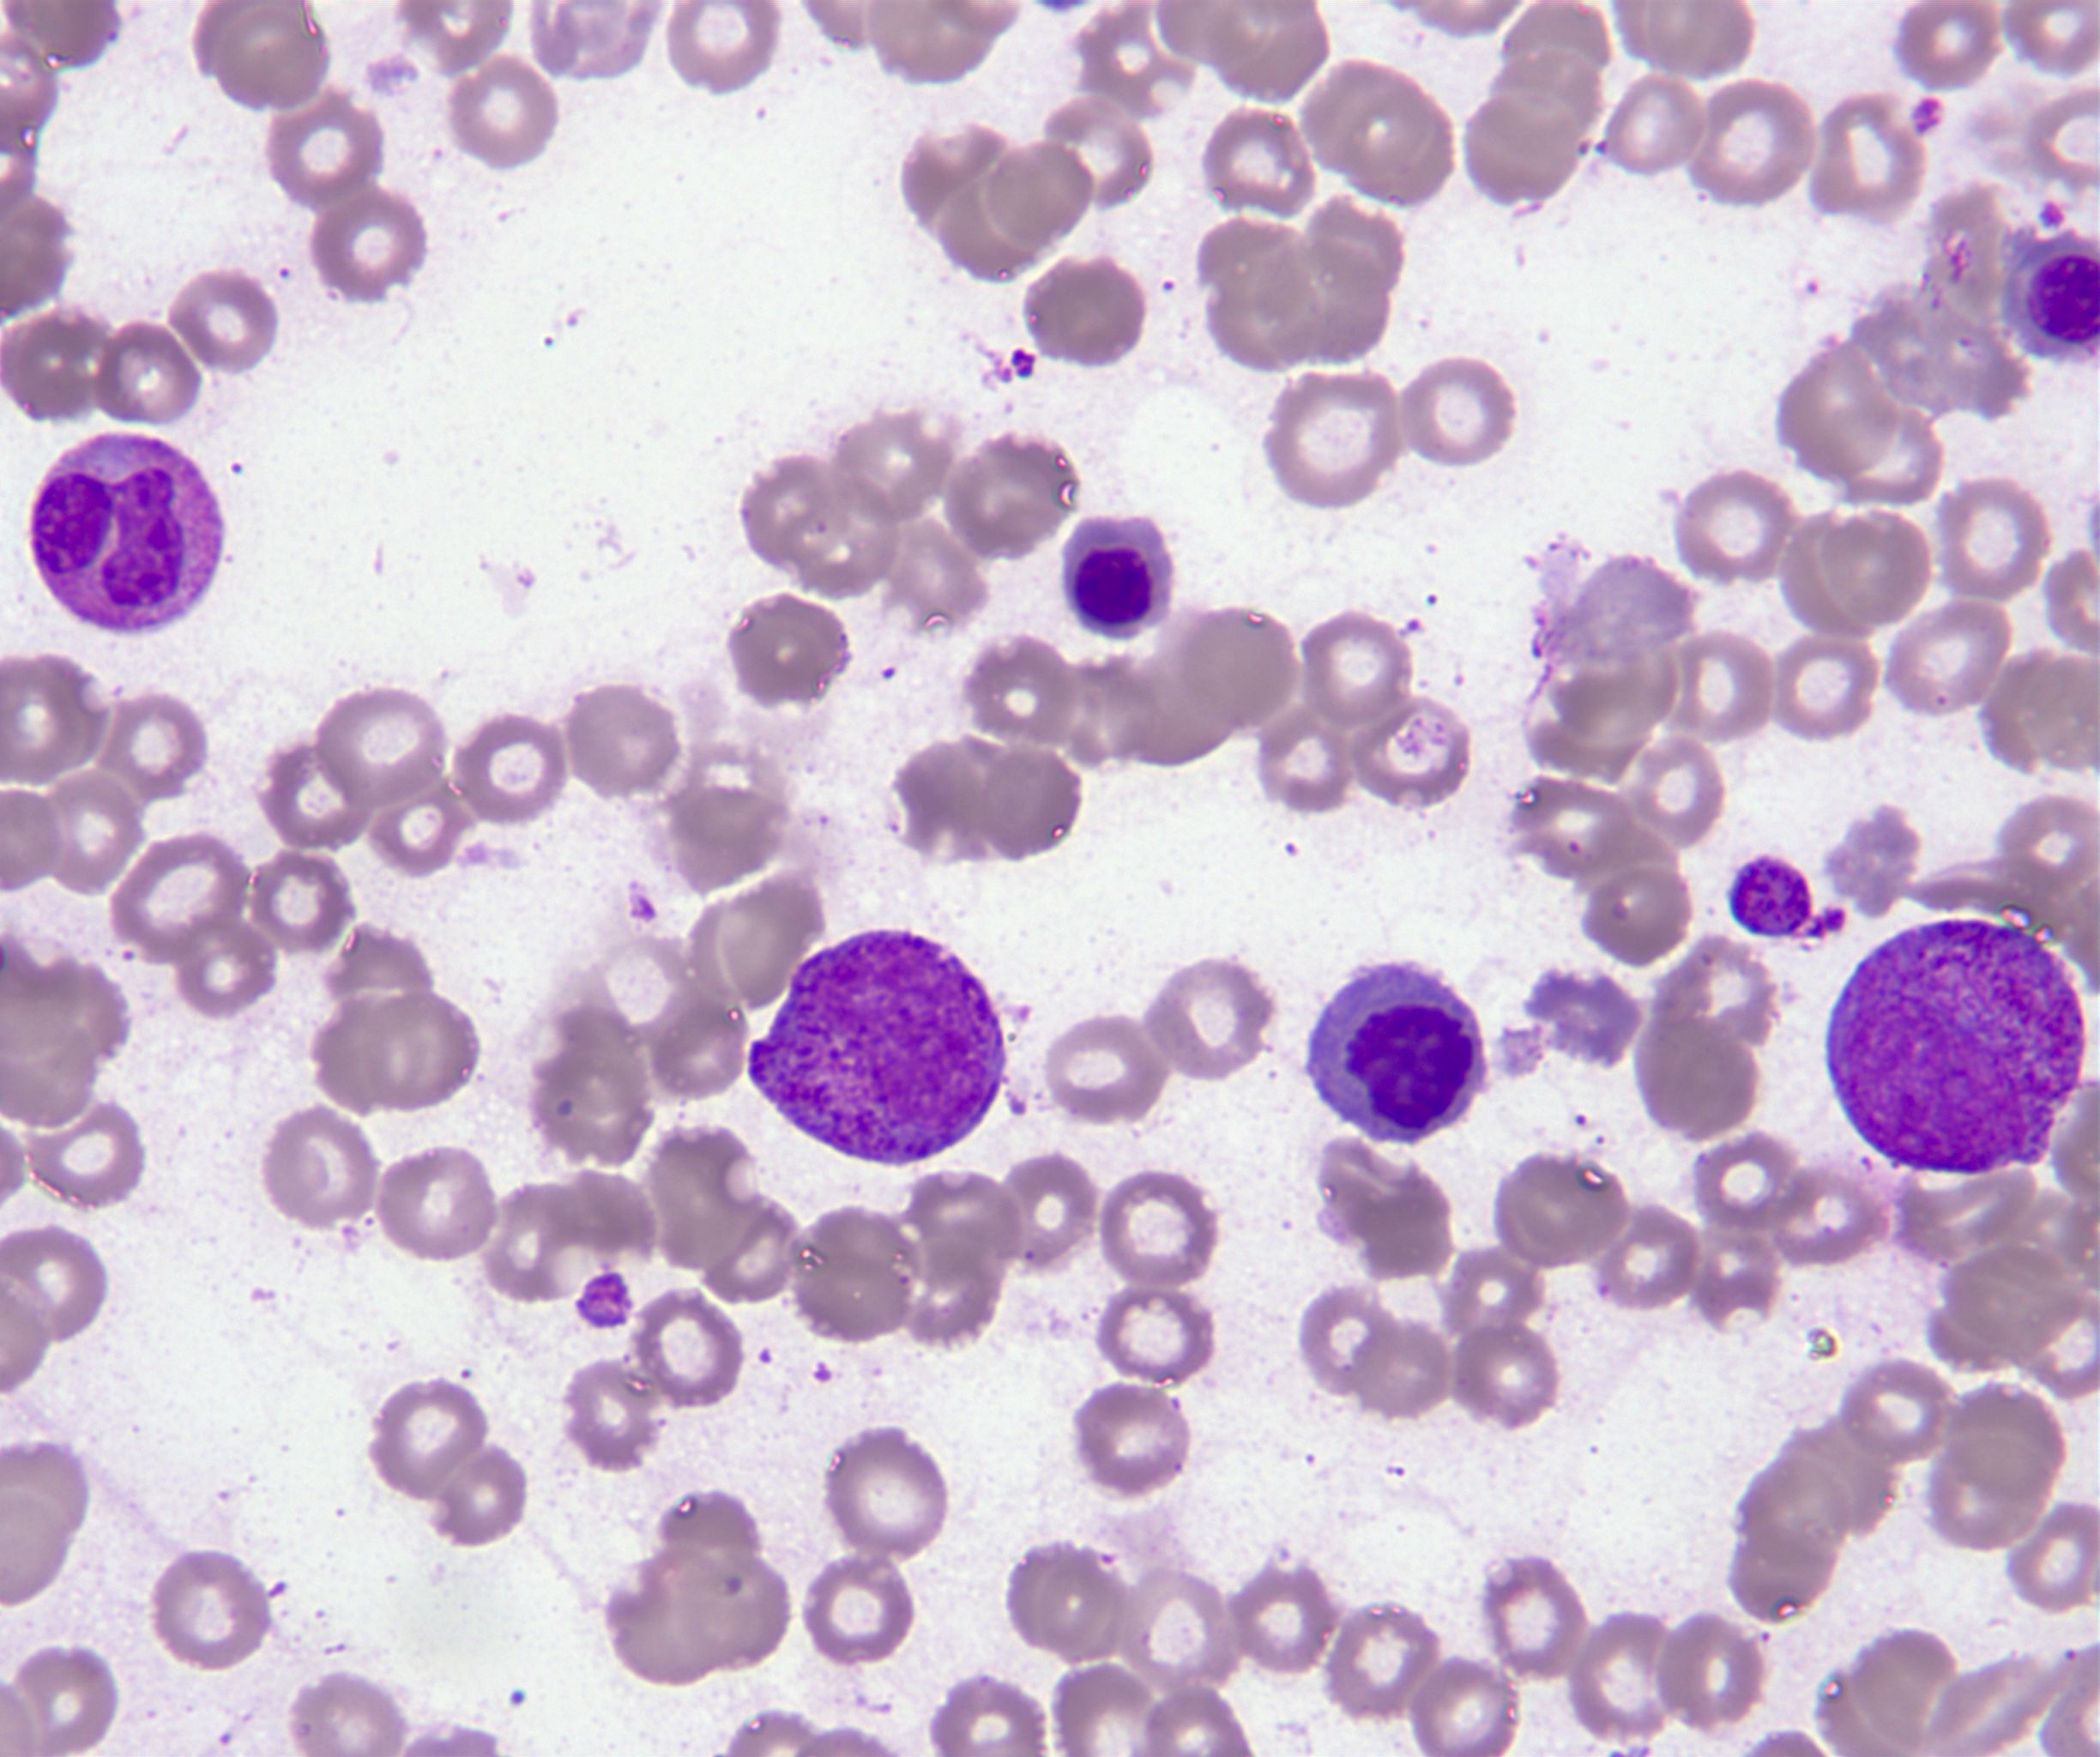2: (1830, 920, 2084, 1172), (748, 932, 1005, 1167)
23: (1306, 963, 1484, 1146)
24: (1060, 518, 1172, 640)
5: (31, 434, 222, 635)
x: (2001, 227, 2100, 365)
